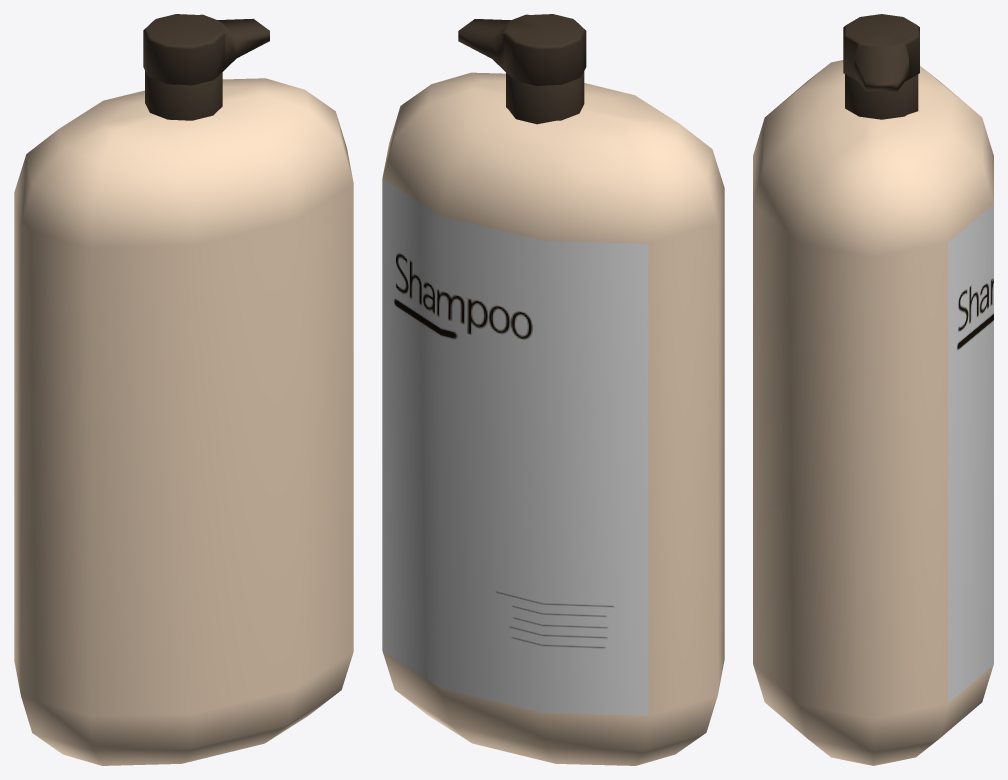
File: Eden_shampoo.fbx
3 renders of one model, left to right at view 1: azimuth 30°, elevation 25°; view 2: azimuth 150°, elevation 25°; view 3: azimuth 270°, elevation 25°, orthographic. The views are drawn at different scales.
Parts seen in each view (by area): view 1: realshampoo; view 2: realshampoo; view 3: realshampoo.
Boxes of the visible parts, left/top/right/bottom form: realshampoo: left=14, top=14, right=353, bottom=765; realshampoo: left=382, top=14, right=724, bottom=765; realshampoo: left=753, top=14, right=993, bottom=765.
Bounding box in the file's own units: 0.00147 × 0.00303 × 0.000958.
1 material, 1 textured.
